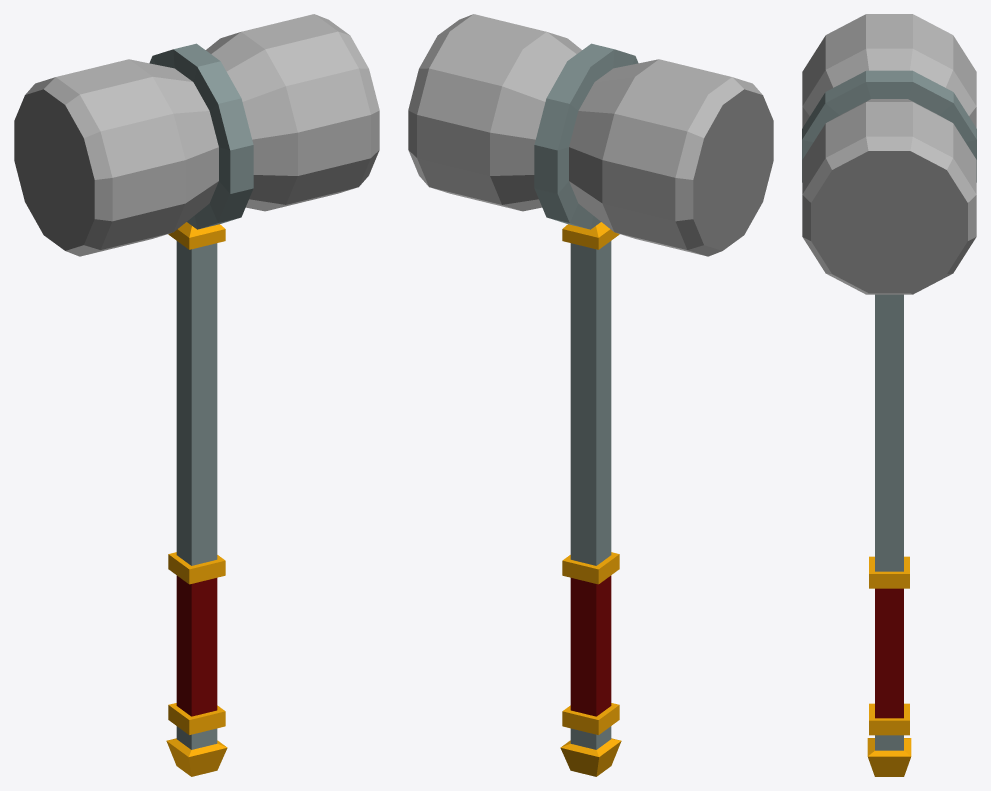
The model's file is Hammer_01.fbx.
3 views of the same model, side by side, from view 1: azimuth 30°, elevation 25°; view 2: azimuth 150°, elevation 25°; view 3: azimuth 270°, elevation 25° (orthographic). The views are drawn at different scales.
Parts seen in each view (by area): view 1: Hammer_01; view 2: Hammer_01; view 3: Hammer_01.
Boxes of the visible parts, x1,y1,x2,y2 form: Hammer_01: (14, 14, 379, 776); Hammer_01: (408, 14, 773, 776); Hammer_01: (802, 14, 976, 776).
Bounding box in the file's own units: 66 × 158 × 36.
1 material, 1 textured.
